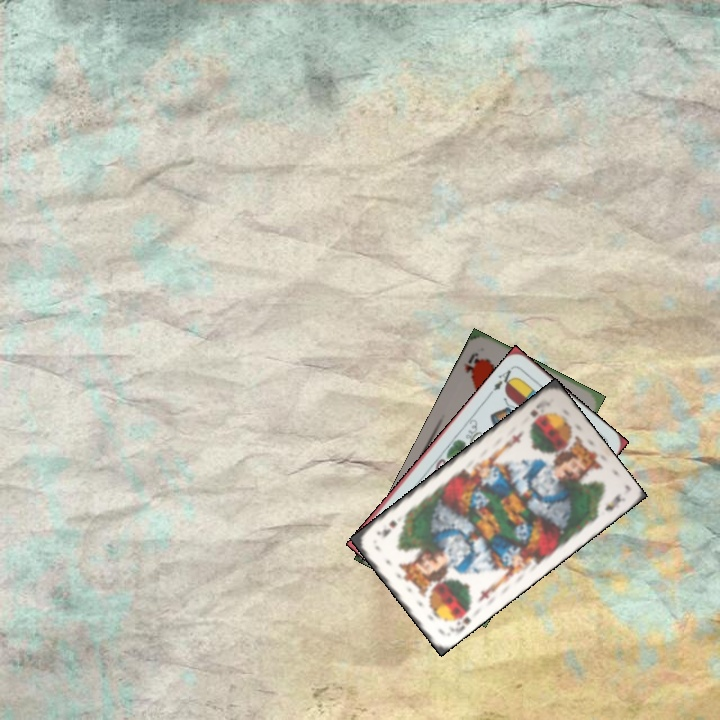EA: (485, 365, 518, 397)
HO: (460, 348, 484, 381)
SK: (444, 603, 474, 636), (526, 397, 553, 420)
